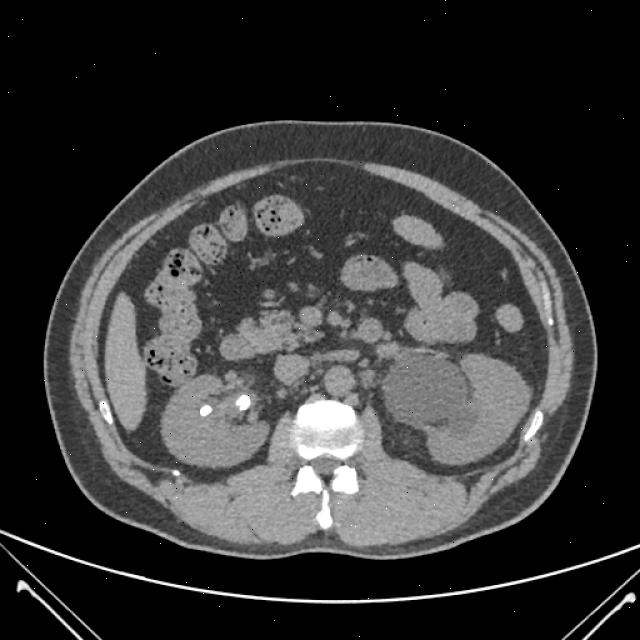kidneystone: (235, 394, 251, 411), (199, 404, 212, 417)
